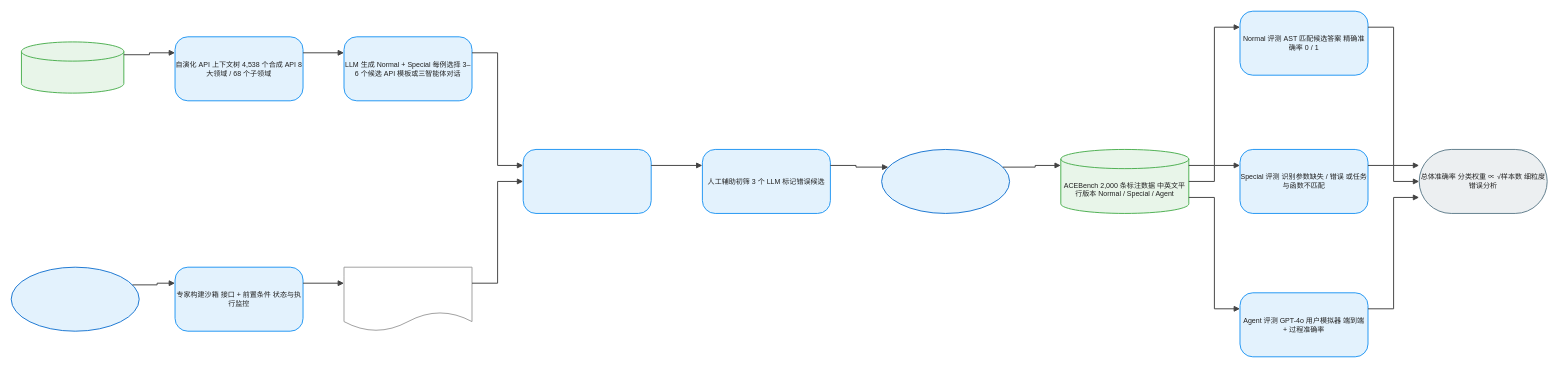
Image size: 1559x369. Some labels were removed from this diagram. Each missing label, with the box of its shape:
专家构建 Agent 数据 迭代式问题设计 多步 / 多轮: (343, 266, 472, 331)
专家质量循环 2 位专家独立审核 第 3 位专家汇总修订 重评；共 3 轮优化: (881, 149, 1010, 214)
技术文档 真实 API 参考: (21, 41, 124, 93)
真实场景抽象 状态变量 + 业务规则: (10, 266, 139, 331)
自动质量检查 规则：清晰度 / 可执行性 对话准确性 / 数据一致性 LLM 验证 + 投票: (522, 149, 651, 214)
